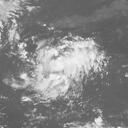cyclone: (24, 36, 100, 101)
